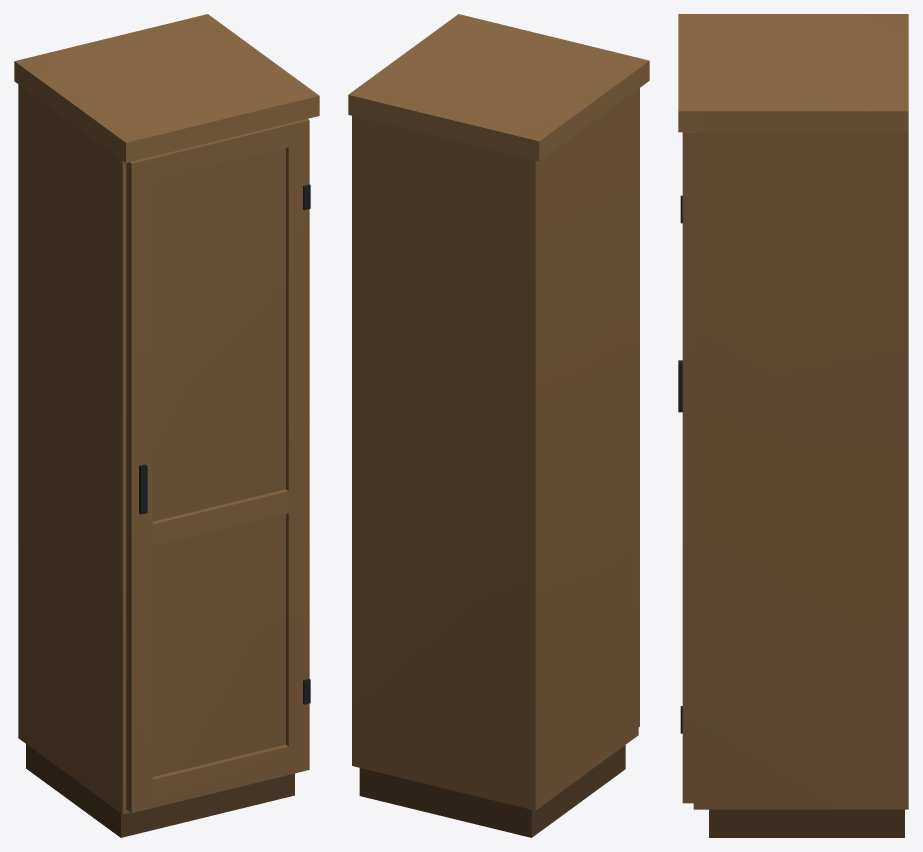
File: cabinet.closet.oak.glb
3 renders of one model, left to right at view 1: azimuth 30°, elevation 25°; view 2: azimuth 150°, elevation 25°; view 3: azimuth 270°, elevation 25°, orthographic. The views are drawn at different scales.
Parts seen in each view (by area): view 1: cabinet_closet_oak; view 2: cabinet_closet_oak; view 3: cabinet_closet_oak.
Part boxes in pixels (<box>): cabinet_closet_oak: <box>14,14,319,837</box>; cabinet_closet_oak: <box>348,14,649,837</box>; cabinet_closet_oak: <box>678,14,908,837</box>.
Size of what is drawn, in the model's own units: 0.6 by 2.1 by 0.6.
